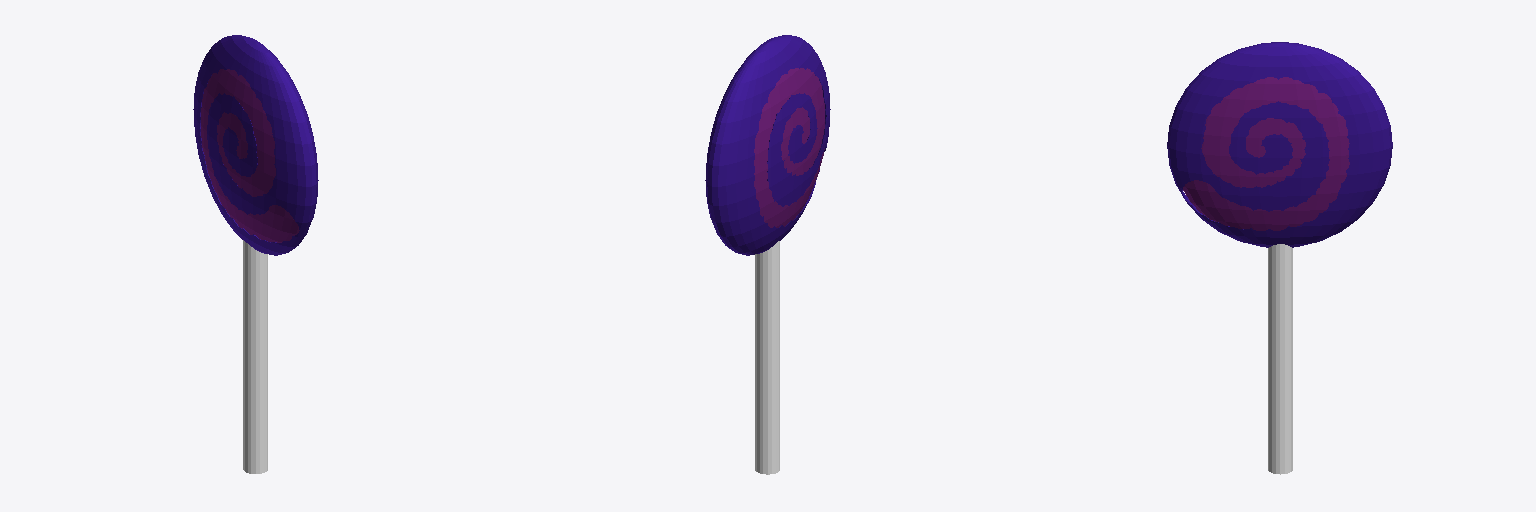
Rendered from single_lollipop.obj.
3 views of the same model, side by side, from view 1: azimuth 30°, elevation 25°; view 2: azimuth 150°, elevation 25°; view 3: azimuth 270°, elevation 25° (orthographic).
Visible parts, largest first — view 1: Sphere001, Sphere002, Cylinder001; view 2: Sphere001, Cylinder001, Sphere002; view 3: Sphere001, Sphere002, Cylinder001.
Part boxes in pixels (bbox=[...]): Sphere001: bbox=[193, 35, 318, 255]; Sphere002: bbox=[201, 69, 299, 242]; Cylinder001: bbox=[243, 240, 267, 473]; Sphere001: bbox=[705, 35, 830, 255]; Cylinder001: bbox=[755, 241, 779, 474]; Sphere002: bbox=[754, 68, 824, 227]; Sphere001: bbox=[1167, 42, 1392, 247]; Sphere002: bbox=[1183, 77, 1349, 230]; Cylinder001: bbox=[1268, 244, 1292, 474].
Size of the model in its own units: 4.96 by 37.21 by 17.86.